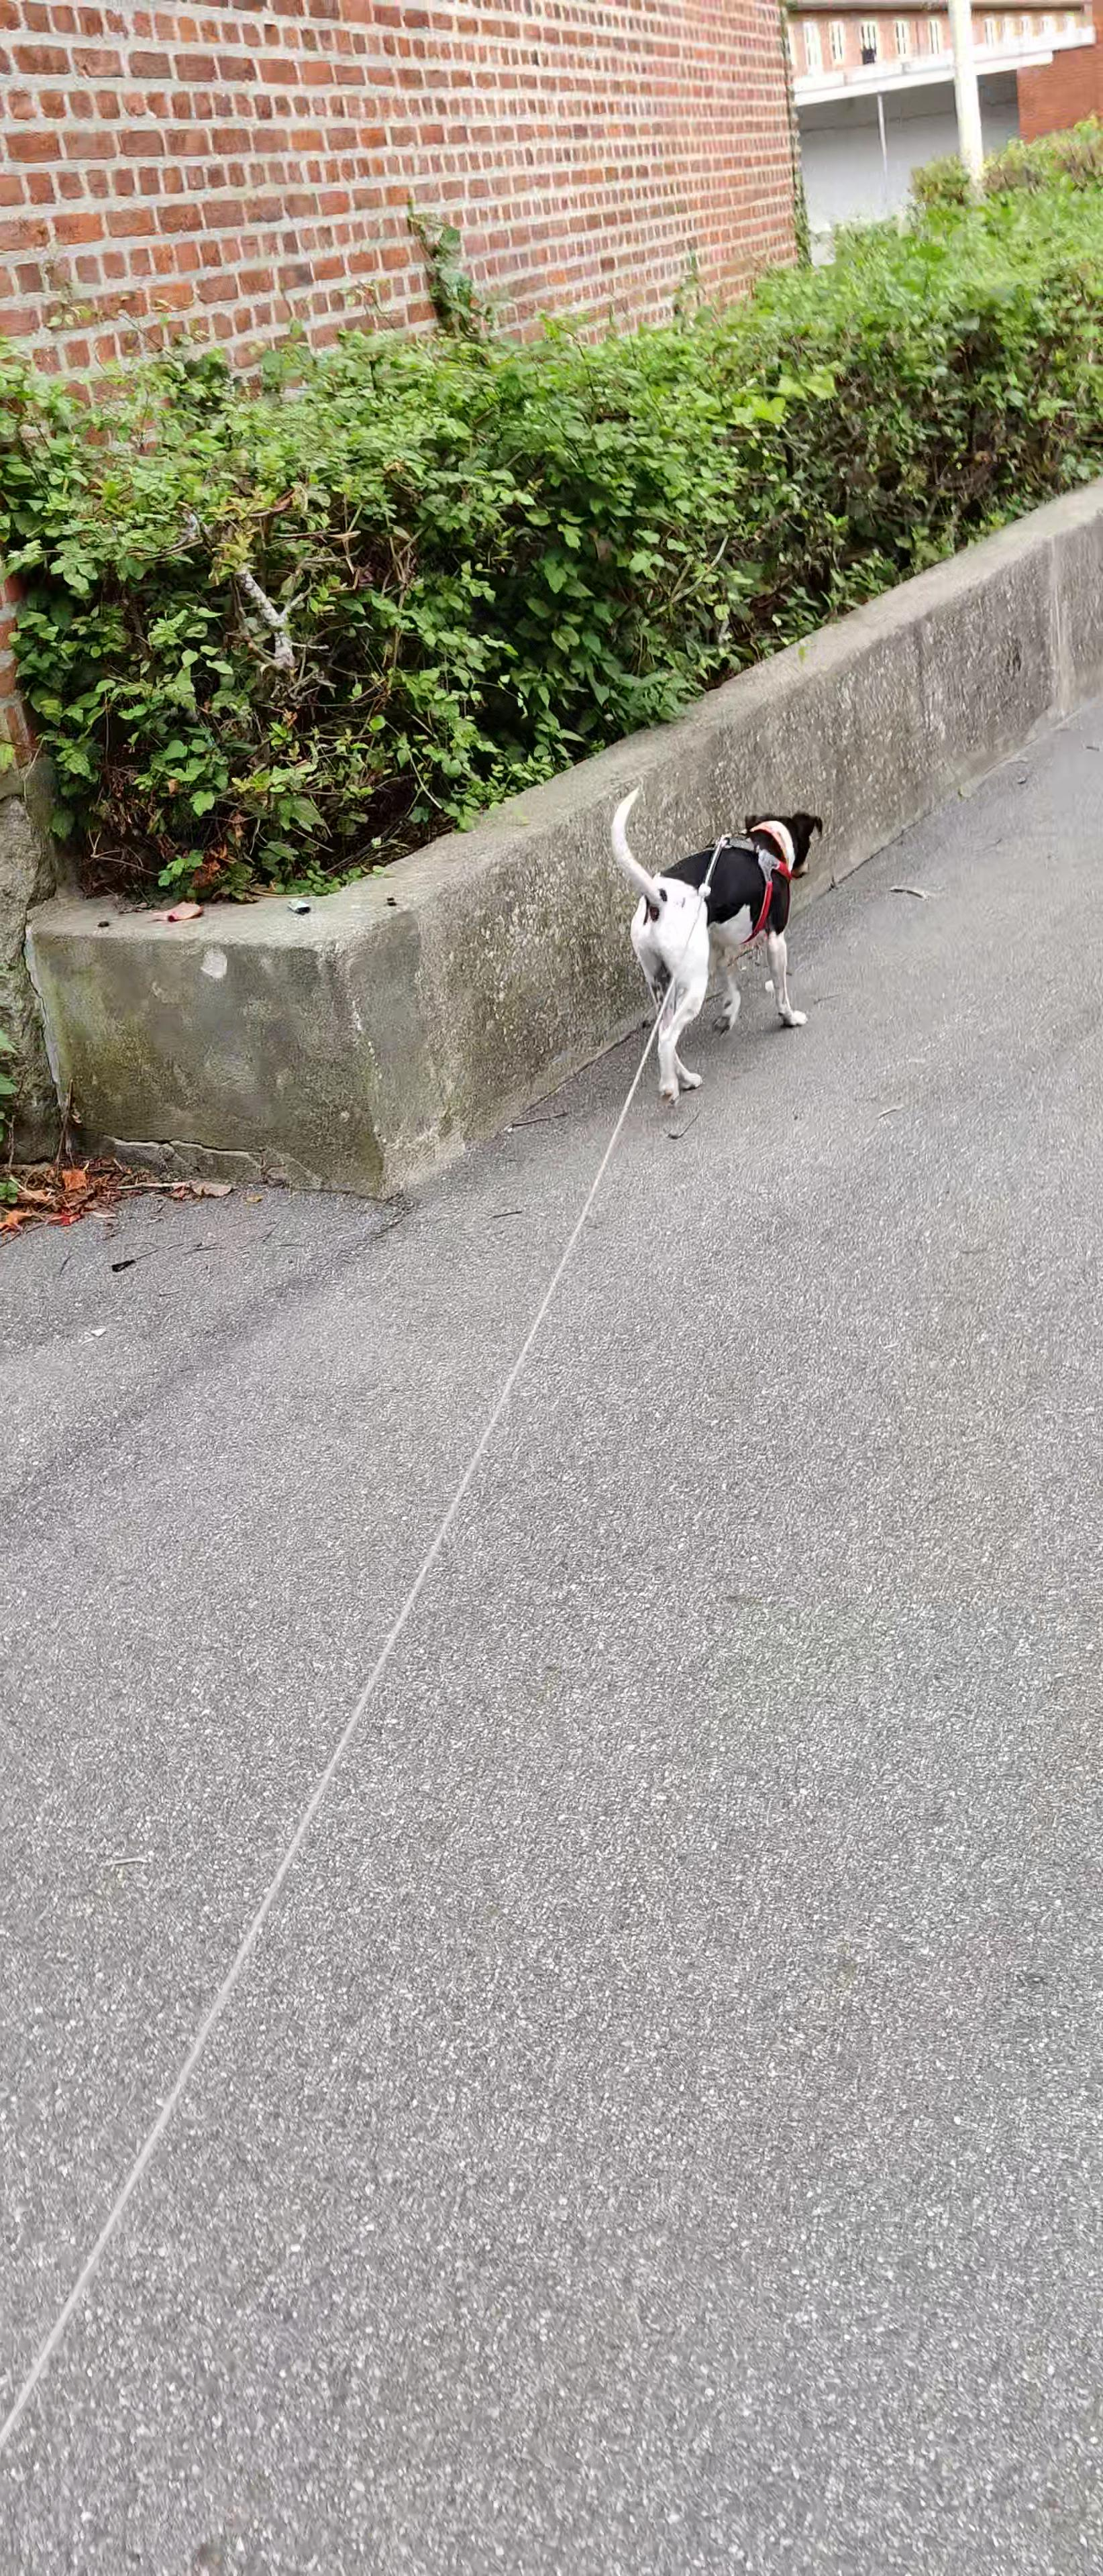Dog: (602, 782, 827, 1112)
